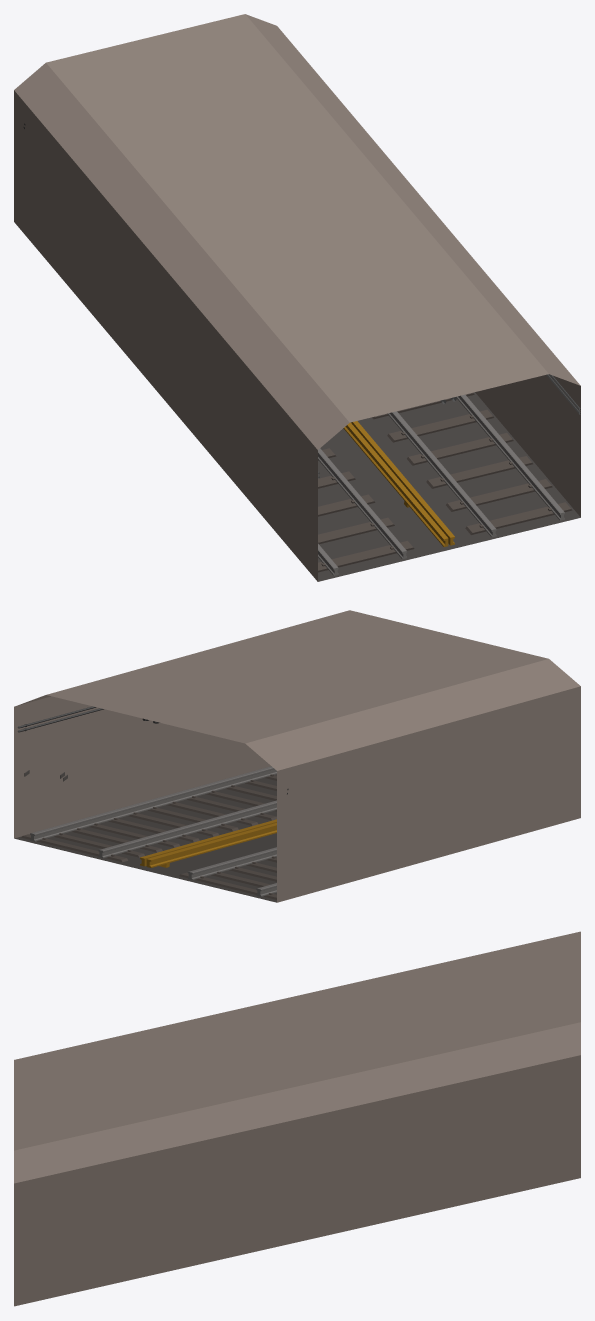
File: SM_Train_Track_Underground_Double_Tunnel_Slope.fbx
3 views of the same model, one above another, from view 1: azimuth 30°, elevation 25°; view 2: azimuth 150°, elevation 25°; view 3: azimuth 270°, elevation 25° (orthographic). The views are drawn at different scales.
Parts seen in each view (by area): view 1: SM_Train_Track_Underground_Double_Tunnel_Slope; view 2: SM_Train_Track_Underground_Double_Tunnel_Slope; view 3: SM_Train_Track_Underground_Double_Tunnel_Slope.
Boxes of the visible parts, <box> form: SM_Train_Track_Underground_Double_Tunnel_Slope: <box>14,14,580,581</box>; SM_Train_Track_Underground_Double_Tunnel_Slope: <box>14,610,580,902</box>; SM_Train_Track_Underground_Double_Tunnel_Slope: <box>14,931,580,1306</box>.
Bounding box in the file's own units: 700 × 735 × 1400.
